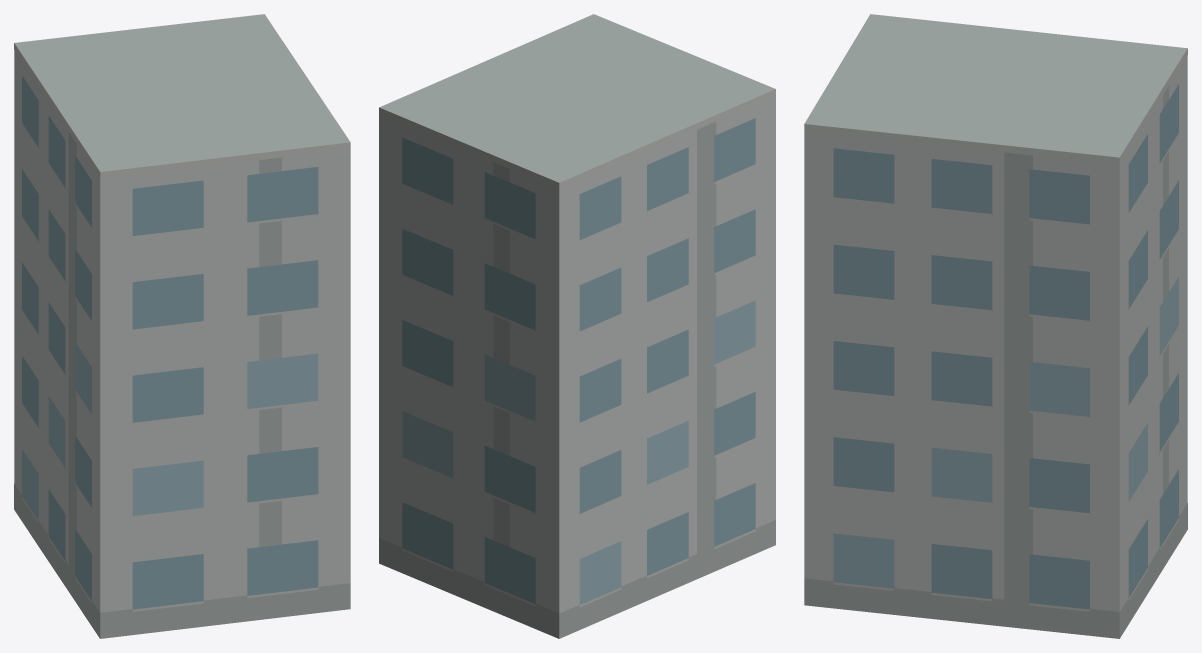
Rendered from survey-upis-32831180.glb.
3 renders of one model, left to right at view 1: azimuth 30°, elevation 25°; view 2: azimuth 150°, elevation 25°; view 3: azimuth 270°, elevation 25°, orthographic. The views are drawn at different scales.
Parts seen in each view (by area): view 1: survey-upis-32831180.tmp; view 2: survey-upis-32831180.tmp; view 3: survey-upis-32831180.tmp.
Boxes of the visible parts, <box> form: survey-upis-32831180.tmp: <box>14,14,350,638</box>; survey-upis-32831180.tmp: <box>379,14,775,638</box>; survey-upis-32831180.tmp: <box>804,14,1187,638</box>.
Bounding box in the file's own units: 10.59 × 16.55 × 11.96.
